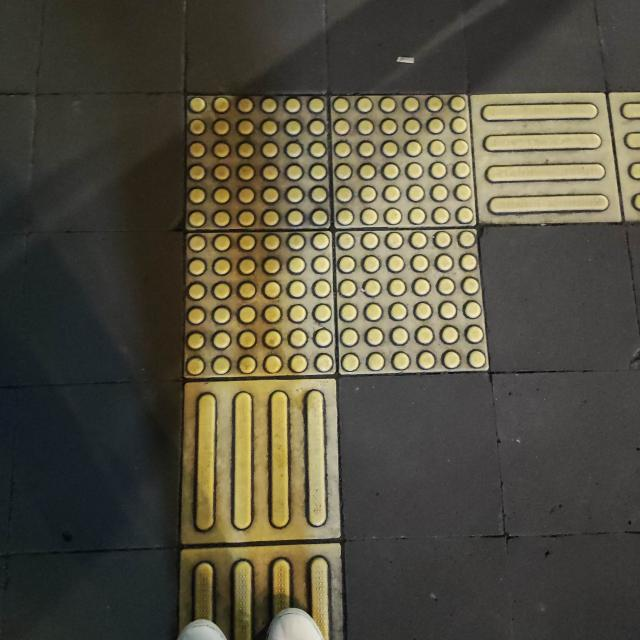kanan: (105, 41, 640, 489)
